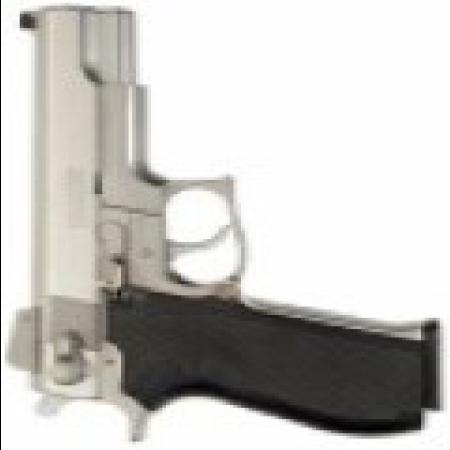Pistol: (7, 11, 432, 433)
